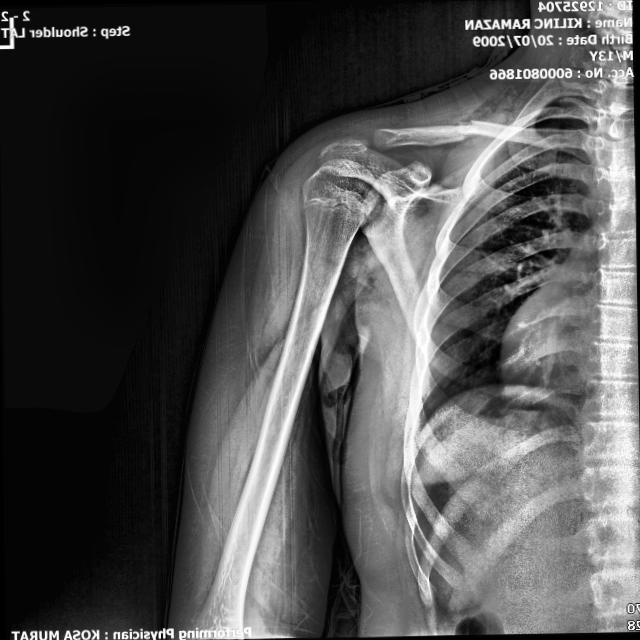Fracture: (414, 108, 521, 155)
